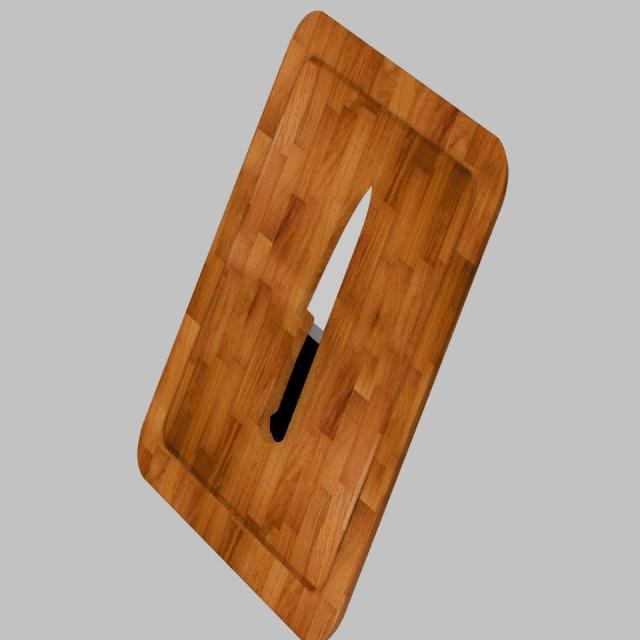knife: (270, 333, 320, 442)
